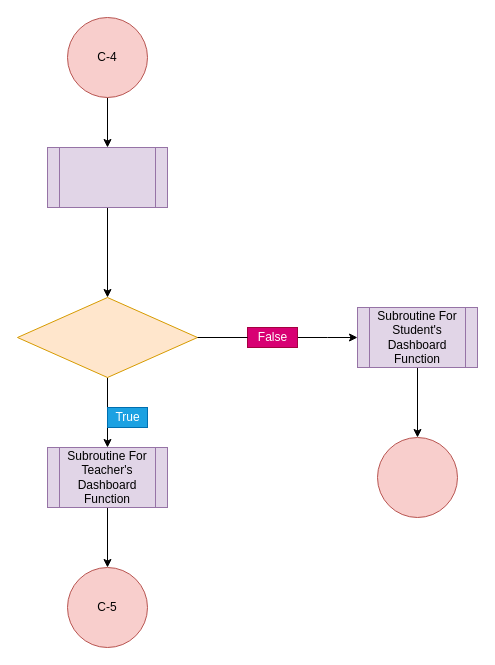
This 495x665 diagram has some shape labels left out. The shapes that lost their labels are listed below. From the top down, each one's centre as x and y in pixels, then its label:
At [107,177]: "Subroutine For Logging In User To the Account".
At [107,337]: "Account Type == Techer's Account".
At [417,477]: "C-6".
